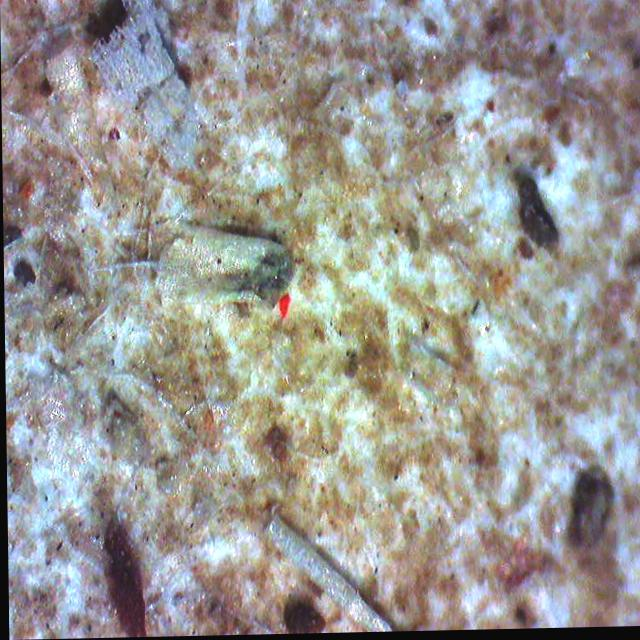microplastic: (274, 292, 291, 319)
